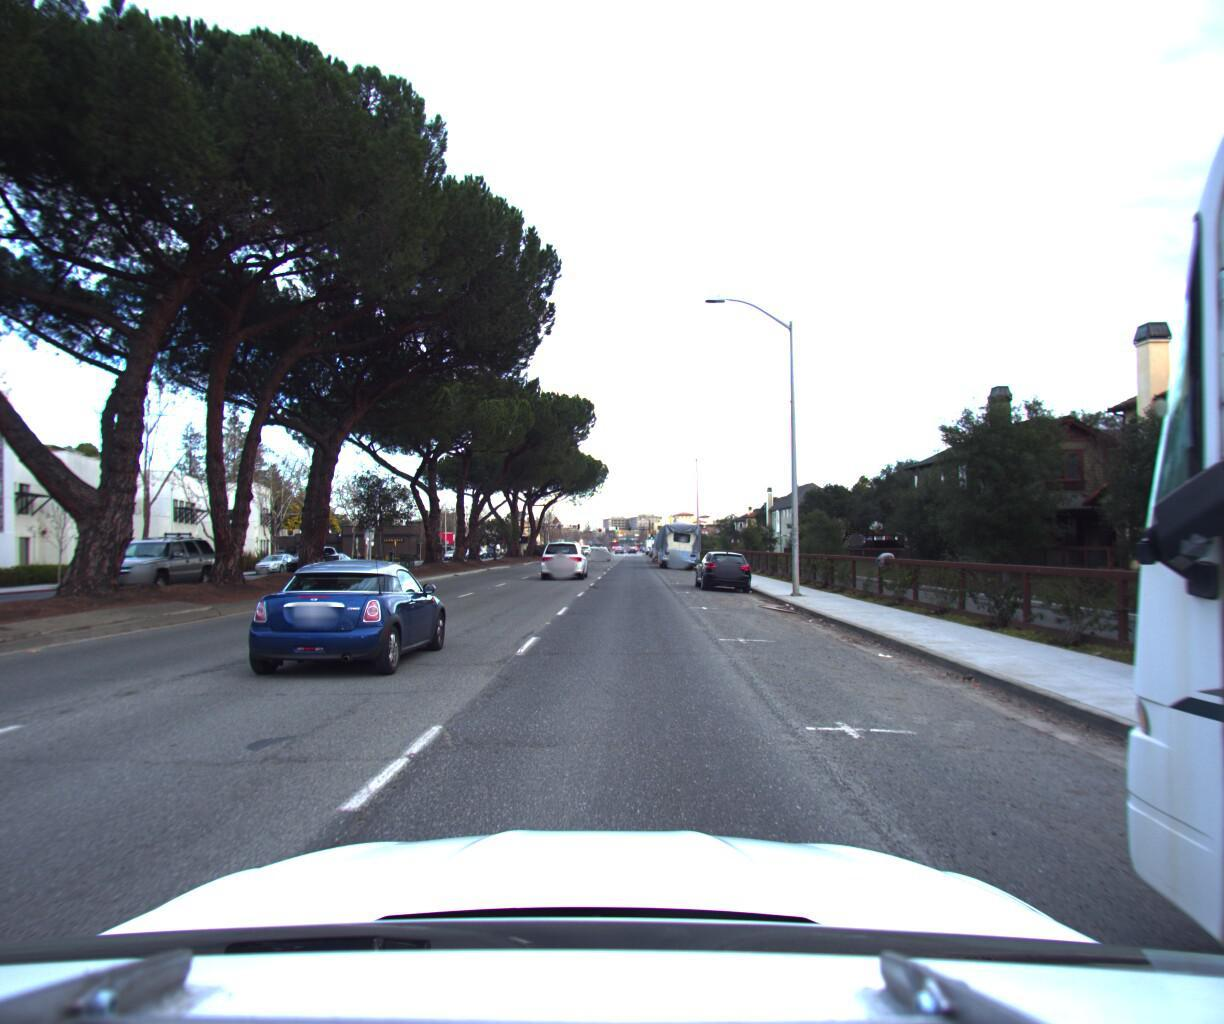car: (238, 550, 460, 680), (80, 530, 229, 602), (688, 541, 752, 587), (537, 533, 590, 573), (252, 545, 302, 568), (587, 534, 610, 552)
truck: (654, 510, 700, 562)
